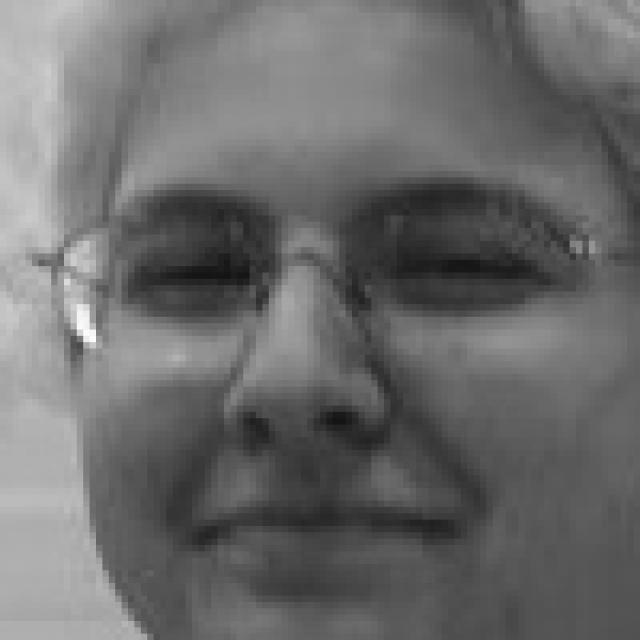real: (77, 12, 640, 640), (101, 218, 569, 324)
